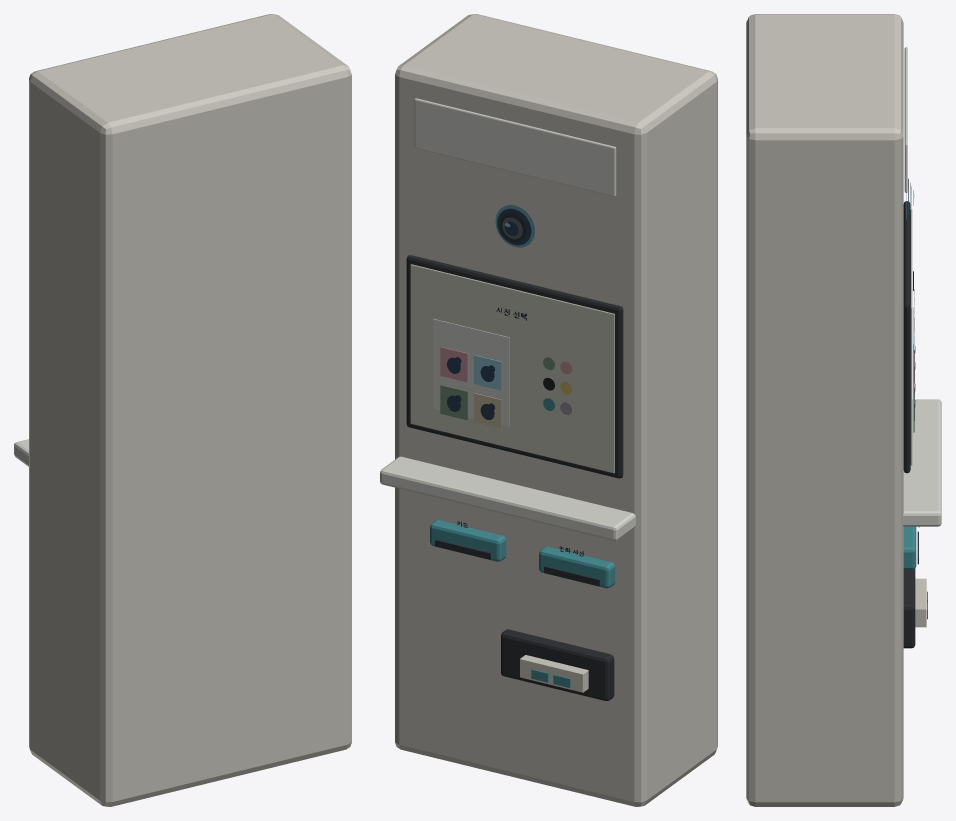
File: booth.glb
3 renders of one model, left to right at view 1: azimuth 30°, elevation 25°; view 2: azimuth 150°, elevation 25°; view 3: azimuth 270°, elevation 25°, orthographic.
Visible parts, largest first — view 1: West_booth; view 2: West_booth; view 3: West_booth.
Part boxes in pixels (<box>): West_booth: <box>14,14,351,806</box>; West_booth: <box>380,14,717,806</box>; West_booth: <box>746,14,941,806</box>.
Bounding box in the file's own units: 0.76 × 1.98 × 0.5166.
